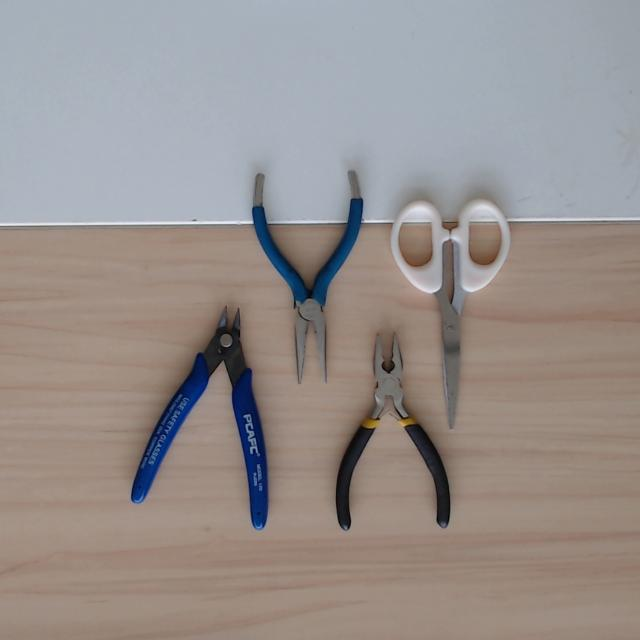Gunting: (342, 176, 522, 432)
Tang-Jepit-Biru: (247, 168, 364, 387)
Tang-Jepit-Hitam: (332, 332, 452, 531)
Tang-Potong-Biru: (128, 294, 310, 533)
